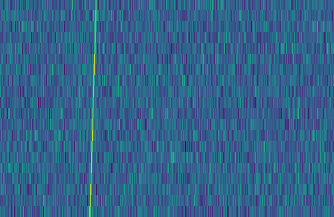signal: (83, 0, 98, 217)
